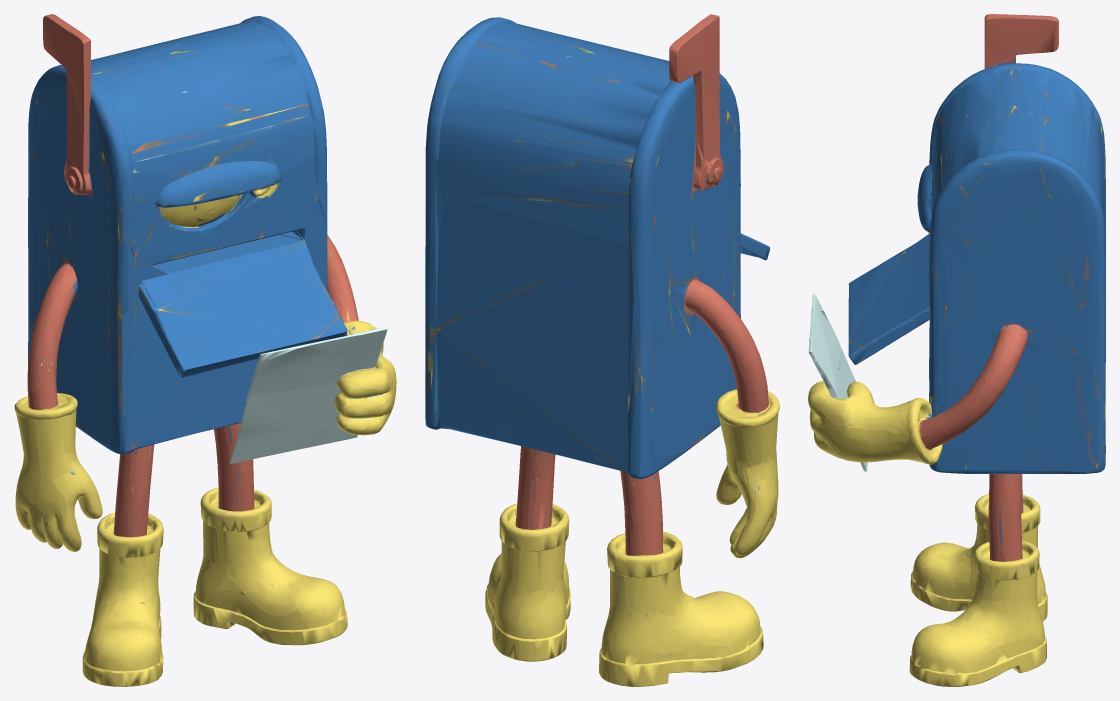
Rendered from mailbox.glb.
3 views of the same model, side by side, from view 1: azimuth 30°, elevation 25°; view 2: azimuth 150°, elevation 25°; view 3: azimuth 270°, elevation 25° (orthographic). The views are drawn at different scales.
Visible parts, largest first — view 1: Mesh_0; view 2: Mesh_0; view 3: Mesh_0.
Part boxes in pixels (left/top/right/bottom): Mesh_0: left=14, top=14, right=396, bottom=686; Mesh_0: left=425, top=14, right=779, bottom=686; Mesh_0: left=808, top=14, right=1105, bottom=686.
Bounding box in the file's own units: 1.02 × 1.9 × 0.8961.
1 material, 1 textured.
